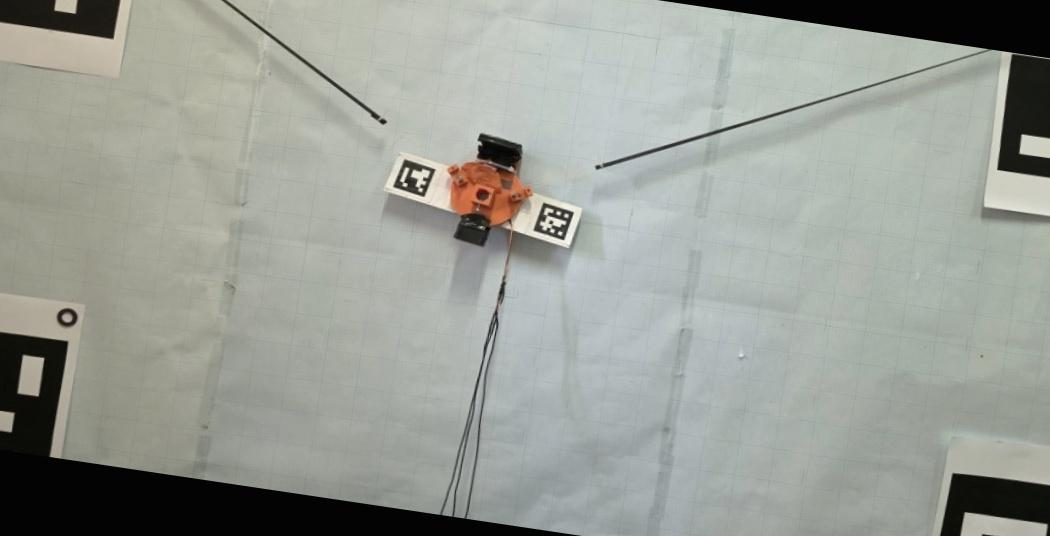robot: (445, 132, 535, 247)
